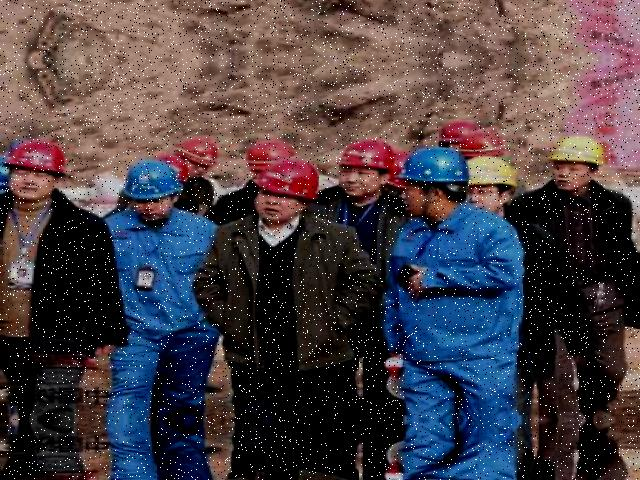Helmet: (251, 154, 327, 206), (1, 135, 76, 185), (401, 142, 475, 187), (118, 154, 186, 202), (335, 134, 404, 175), (543, 132, 611, 172), (178, 134, 228, 168)
